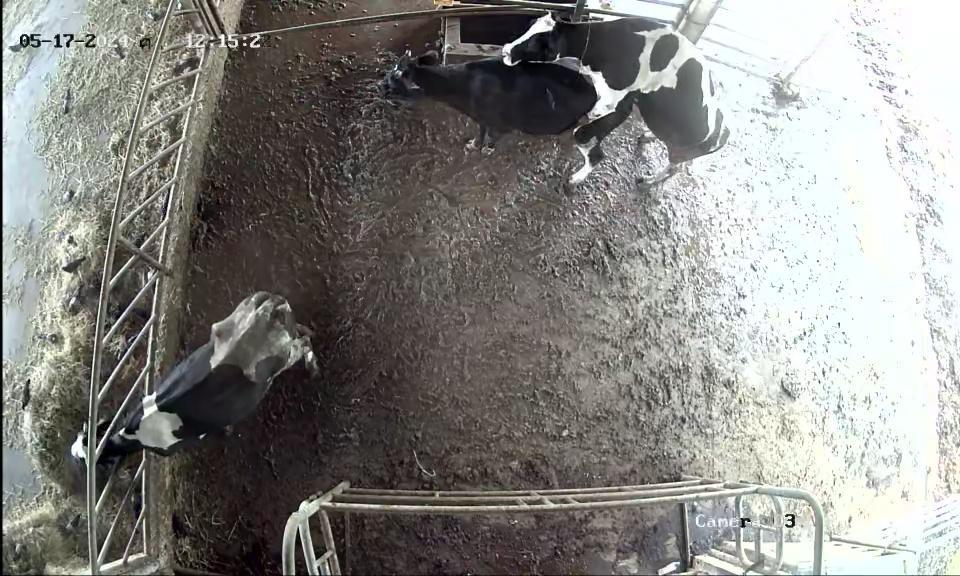eat: (53, 396, 175, 490)
ride: (497, 0, 746, 218)
stand: (366, 44, 598, 162)
